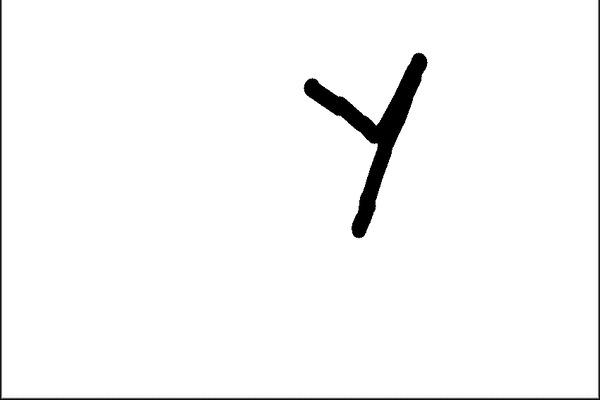Y: (281, 41, 433, 263)
